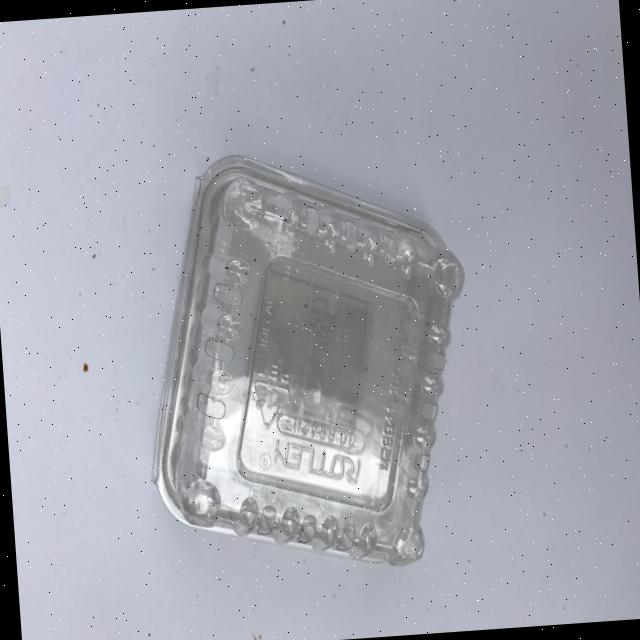plastic: (128, 138, 484, 582)
